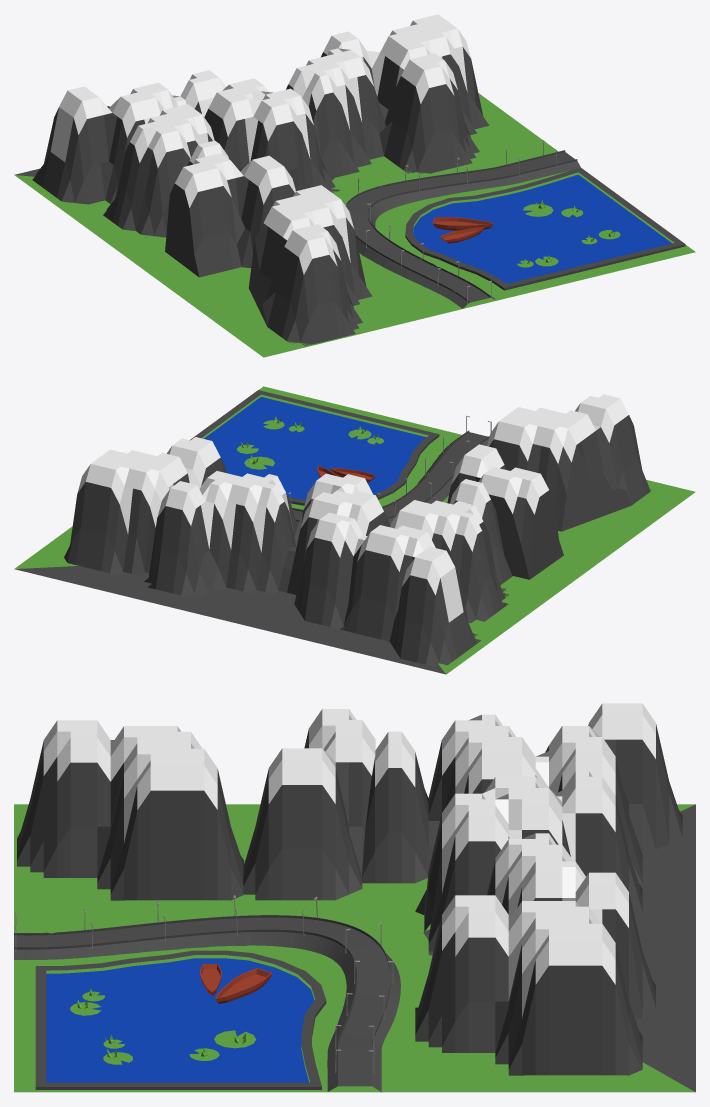
3 renders of one model, top to bottom at view 1: azimuth 30°, elevation 25°; view 2: azimuth 150°, elevation 25°; view 3: azimuth 270°, elevation 25°, orthographic. The views are drawn at different scales.
Visible parts, largest first — view 1: Plane; view 2: Plane; view 3: Plane.
Part boxes in pixels (x1,y1,x2,y2): Plane: (14, 14, 695, 357); Plane: (14, 386, 695, 674); Plane: (14, 703, 695, 1092).
Bounding box in the file's own units: 20000 × 4067 × 20000.
